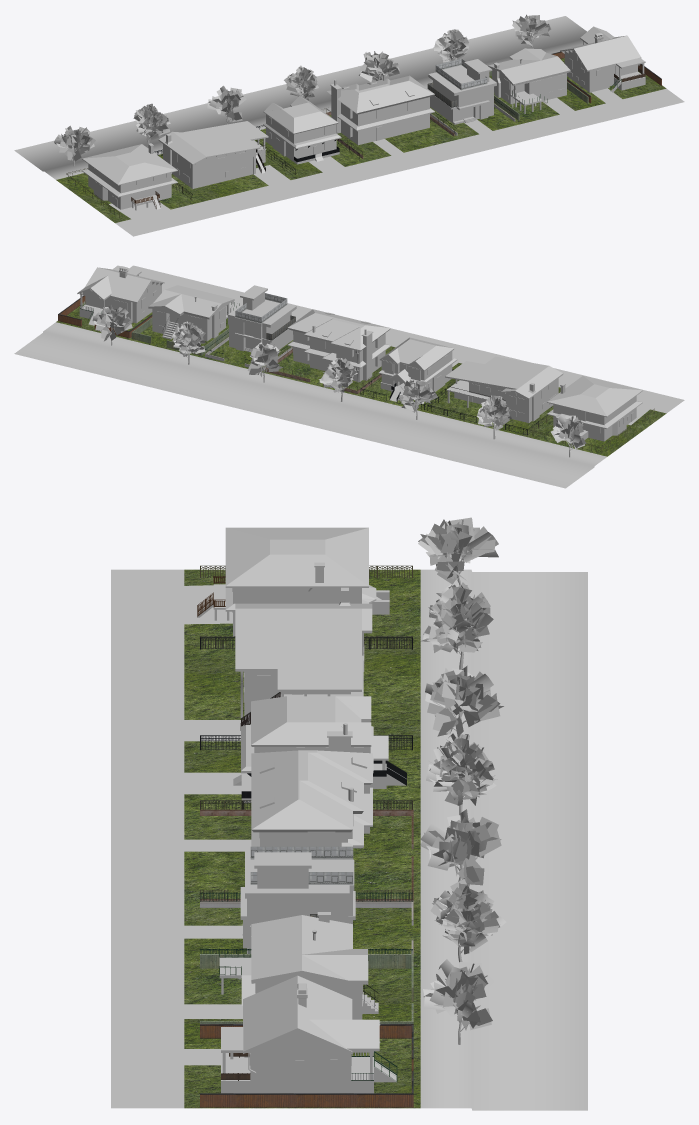
Rendered from house_set-2.FBX.
The picture shows the model from 3 angles, top to bottom: view 1: azimuth 30°, elevation 25°; view 2: azimuth 150°, elevation 25°; view 3: azimuth 270°, elevation 25°; orthographic projection. The views are drawn at different scales.
Parts seen in each view (by area): view 1: Plane003, Plane004, Object004, house-11, house-13, house-14, house-8, house-12, house-10, house-9, Object006, Object018 (+7 smaller); view 2: Plane003, Object004, house-13, house-11, house-14, Plane004, house-10, house-8, house-9, house-12, Object019, Object015 (+8 smaller); view 3: Plane003, Object004, Plane004, house-8, house-13, house-14, house-11, house-9, house-10, house-12, Object006, Box025 (+13 smaller).
Part boxes in pixels (x1=…): Plane003: x1=14, y1=16, x2=586, y2=179; Plane004: x1=115, y1=88, x2=684, y2=236; Object004: x1=56, y1=58, x2=666, y2=222; house-11: x1=326, y1=74, x2=434, y2=145; house-13: x1=158, y1=121, x2=268, y2=188; house-14: x1=82, y1=143, x2=177, y2=210; house-8: x1=560, y1=26, x2=645, y2=92; house-12: x1=263, y1=96, x2=341, y2=164; house-10: x1=427, y1=58, x2=496, y2=124; house-9: x1=488, y1=48, x2=570, y2=113; Object006: x1=109, y1=88, x2=622, y2=218; Object018: x1=54, y1=125, x2=95, y2=166; Plane003: x1=14, y1=322, x2=606, y2=488; Object004: x1=56, y1=302, x2=666, y2=456; house-13: x1=445, y1=356, x2=563, y2=422; house-11: x1=287, y1=309, x2=391, y2=382; house-14: x1=547, y1=375, x2=642, y2=441; Plane004: x1=130, y1=265, x2=684, y2=413; house-10: x1=228, y1=285, x2=296, y2=352; house-8: x1=77, y1=265, x2=164, y2=325; house-9: x1=148, y1=285, x2=239, y2=341; house-12: x1=378, y1=337, x2=457, y2=401; Object019: x1=92, y1=305, x2=132, y2=345; Object015: x1=172, y1=321, x2=205, y2=364; Plane003: x1=420, y1=569, x2=587, y2=1110; Object004: x1=184, y1=569, x2=420, y2=1108; Plane004: x1=111, y1=569, x2=184, y2=1108; house-8: x1=221, y1=975, x2=397, y2=1093; house-13: x1=235, y1=587, x2=372, y2=730; house-14: x1=197, y1=527, x2=389, y2=636; house-11: x1=251, y1=723, x2=372, y2=848; house-9: x1=219, y1=912, x2=378, y2=1019; house-10: x1=240, y1=846, x2=355, y2=953; house-12: x1=233, y1=696, x2=406, y2=802; Object006: x1=184, y1=585, x2=251, y2=1065; Box025: x1=200, y1=1024, x2=413, y2=1107.
Size of the model in its own units: 6118 by 2292 by 542.
